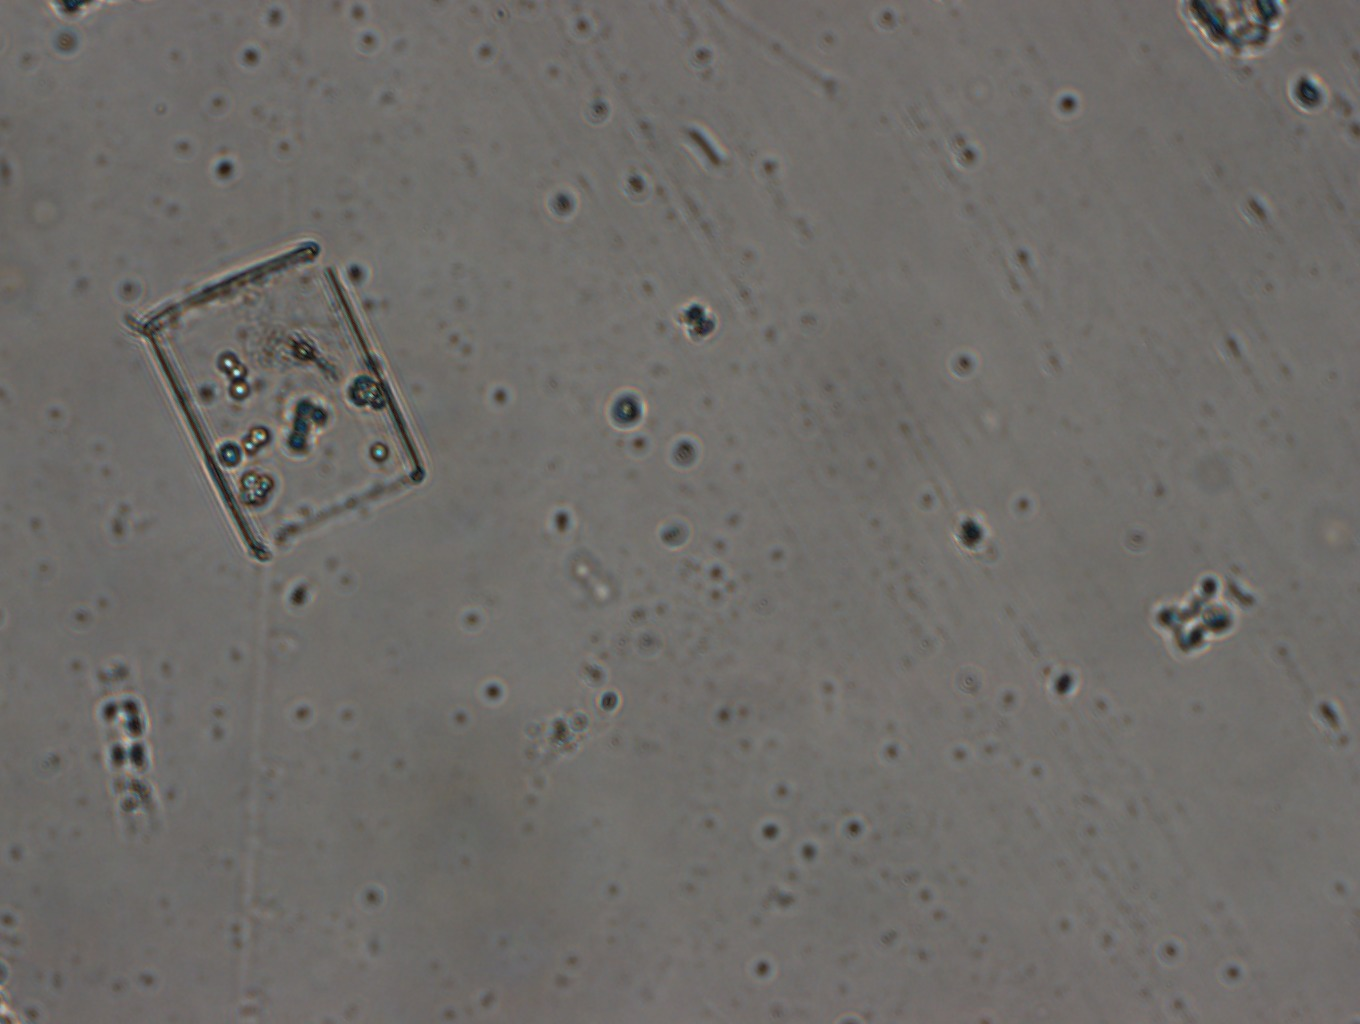guinardia flaccida: (133, 231, 427, 561)
